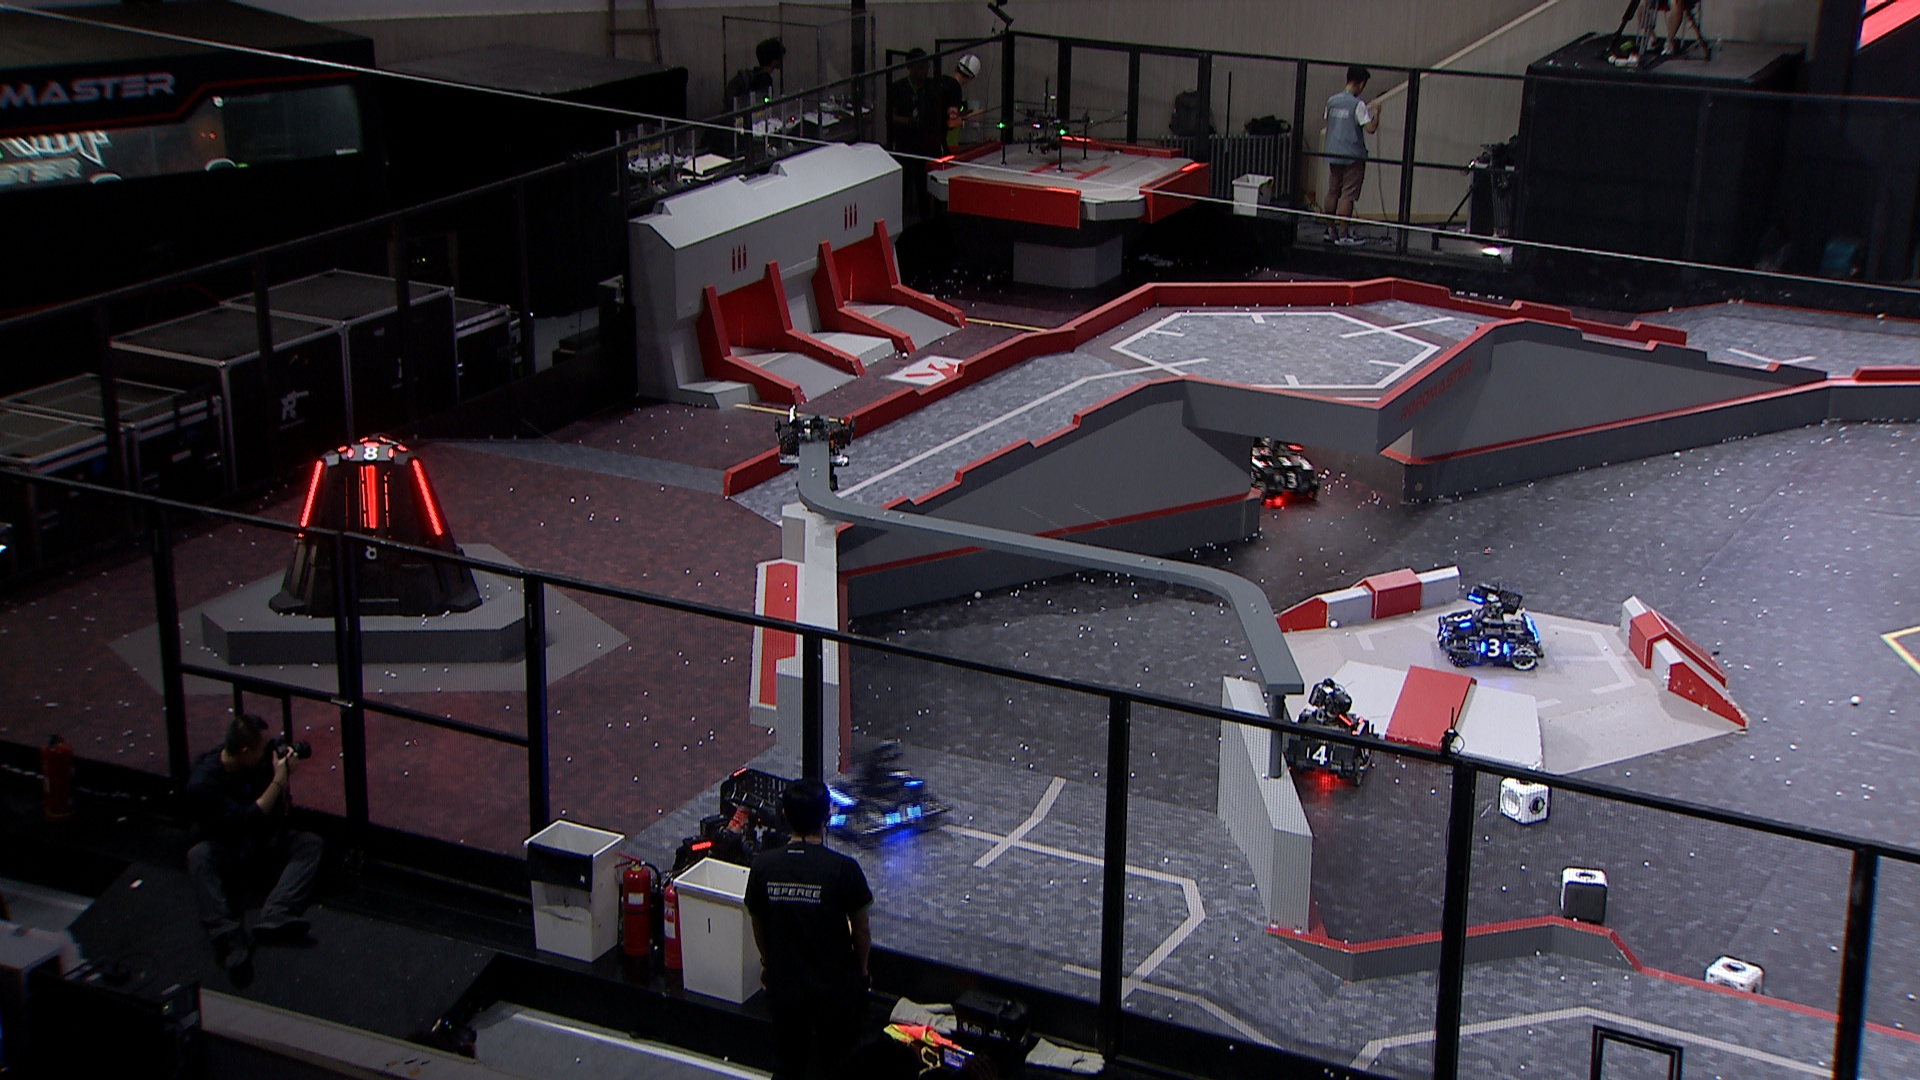armor: (406, 458, 442, 535), (295, 456, 323, 541), (359, 465, 380, 527), (344, 440, 394, 462), (882, 802, 920, 828), (891, 764, 924, 789), (1477, 636, 1510, 659), (1305, 742, 1337, 765), (822, 799, 847, 827), (357, 541, 389, 562), (1267, 454, 1302, 469), (1278, 469, 1302, 491), (1453, 612, 1474, 632), (1433, 621, 1451, 645), (1357, 742, 1375, 761)
base: (266, 434, 487, 622)
car: (671, 769, 835, 913), (814, 736, 951, 844), (1276, 673, 1382, 789), (1432, 580, 1545, 673), (1229, 414, 1325, 508)
watcher: (771, 400, 860, 495)
